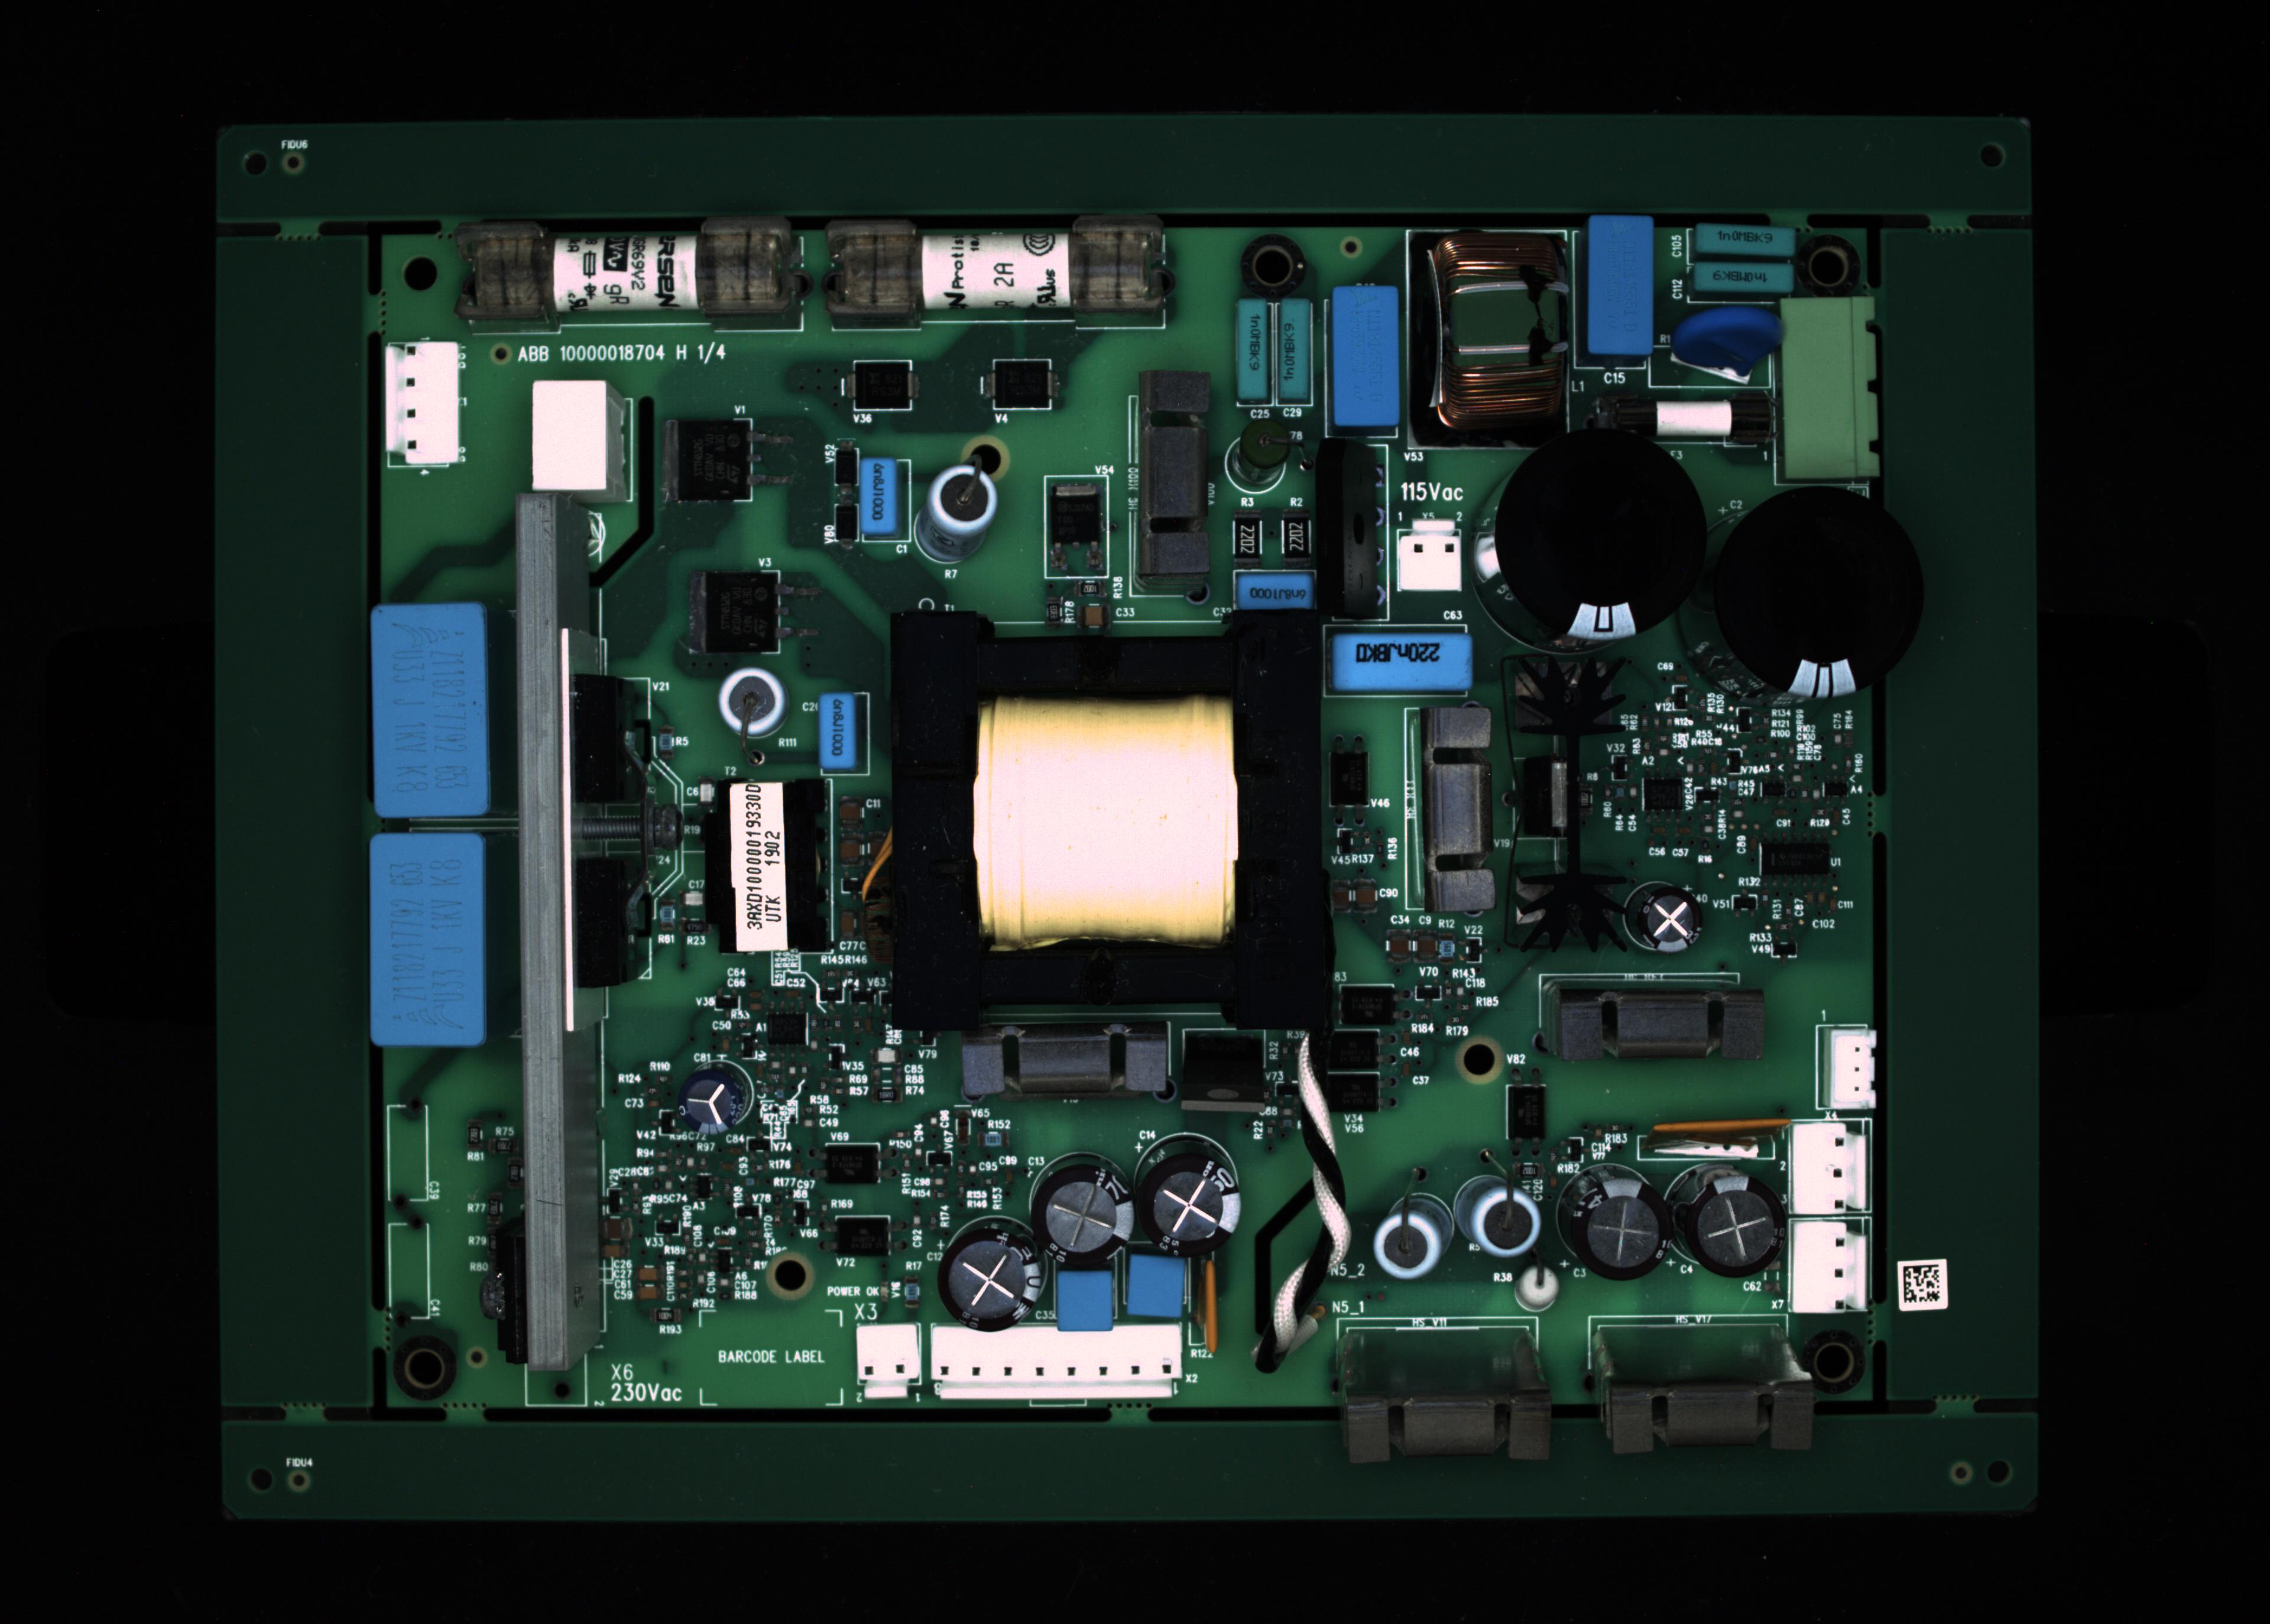10_p: (1648, 302, 1774, 394)
11_q: (1785, 294, 1880, 478)
12_r: (1590, 385, 1774, 453)
13_s: (385, 332, 455, 469)
14_t: (529, 380, 624, 492)
15_e: (853, 457, 891, 533)
16_k: (930, 462, 999, 538)
17_u: (1131, 385, 1206, 589)
18_v: (1234, 569, 1317, 615)
19_w: (1326, 627, 1470, 691)
1_a: (455, 225, 802, 329)
20_f: (1393, 517, 1470, 599)
21_g: (1484, 429, 1709, 649)
22_g: (1709, 482, 1929, 700)
23_h: (375, 608, 482, 812)
24_h: (369, 837, 484, 1046)
26_f: (858, 1325, 923, 1397)
27_x: (927, 1323, 1185, 1397)
28_i: (1129, 1120, 1241, 1239)
29_i: (1027, 1153, 1134, 1274)
2_a: (821, 216, 1175, 318)
30_i: (941, 1216, 1055, 1339)
31_j: (1050, 1267, 1120, 1339)
32_j: (1115, 1237, 1197, 1329)
33_e: (821, 694, 862, 772)
34_k: (1368, 1199, 1452, 1281)
35_k: (1468, 1181, 1542, 1265)
36_i: (1556, 1164, 1672, 1295)
37_i: (1663, 1160, 1786, 1290)
38_l: (1331, 1346, 1560, 1452)
39_l: (1602, 1388, 1809, 1452)
3_b: (1234, 295, 1270, 410)
40_l: (1544, 990, 1771, 1069)
41_y: (1407, 678, 1505, 919)
42_z: (1823, 1026, 1878, 1113)
43_m: (1792, 1118, 1871, 1216)
44_m: (1788, 1225, 1869, 1311)
45_i: (679, 1065, 756, 1142)
46_n: (1338, 982, 1400, 1028)
47_n: (823, 1146, 881, 1188)
48_n: (833, 1214, 891, 1262)
49_aa: (761, 1011, 812, 1049)
4_b: (1280, 299, 1317, 410)
50_n: (1324, 1030, 1384, 1072)
51_n: (1313, 1070, 1379, 1120)
52_ab: (1328, 743, 1373, 807)
53_ac: (1656, 1130, 1790, 1165)
54_ad: (1194, 1253, 1222, 1364)
55_l: (960, 1021, 1175, 1098)
56_ae: (1182, 1032, 1268, 1118)
57_af: (1509, 647, 1635, 951)
58_i: (1630, 884, 1706, 958)
59_o: (992, 362, 1053, 410)
5_c: (1329, 286, 1400, 425)
60_o: (849, 360, 914, 411)
6_6: (1405, 232, 1572, 452)
7_c: (1582, 214, 1649, 352)
8_d: (1686, 227, 1792, 260)
9_d: (1684, 262, 1793, 294)
